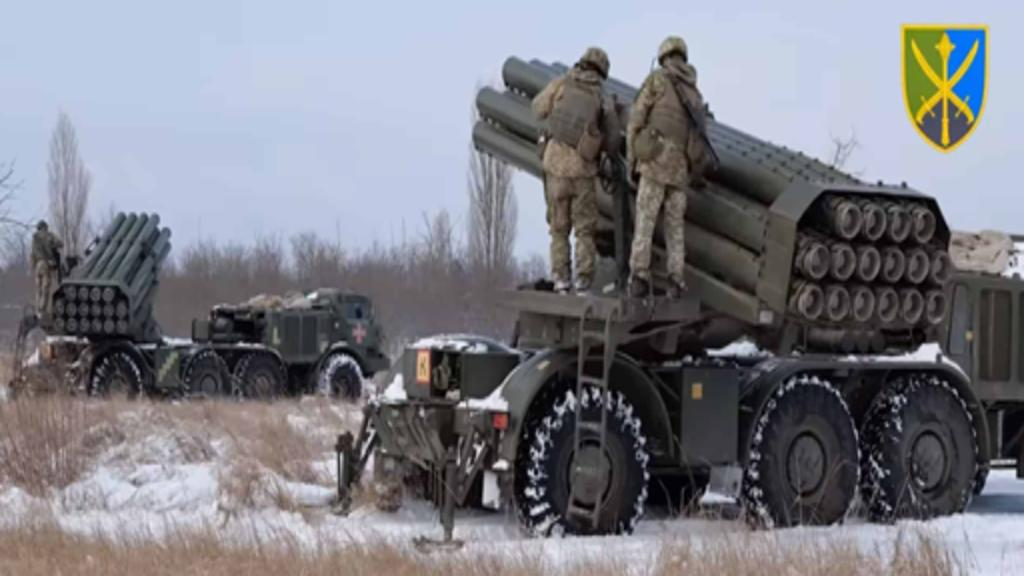MLRS: (372, 48, 1022, 536), (10, 207, 380, 402)
